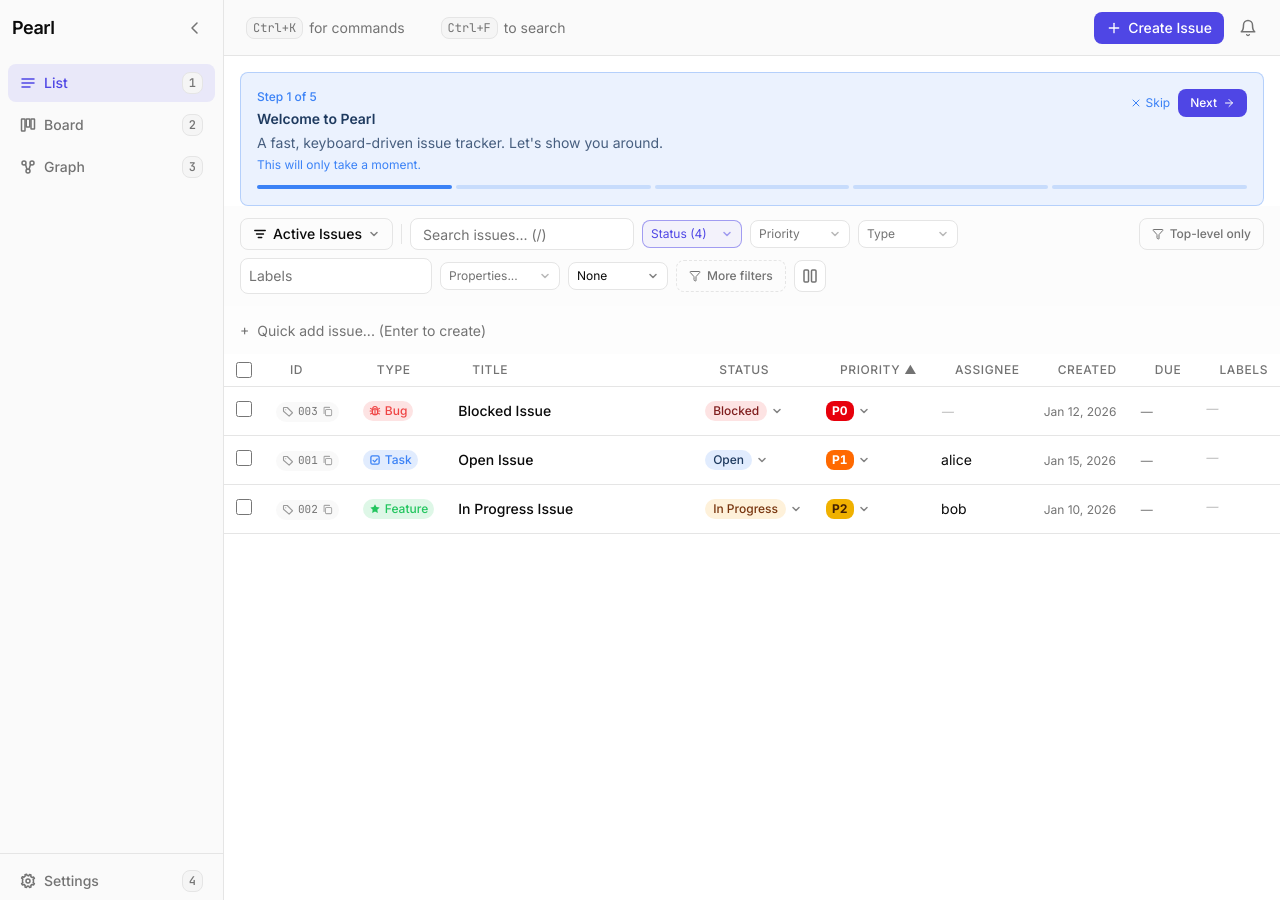
Test case: SC8+SC10: Close issue and highlight newly-unblocked › ListView renders bulk close bar when issues are selected
Note: Select a row via keyboard: press j then x
Press j
Press x
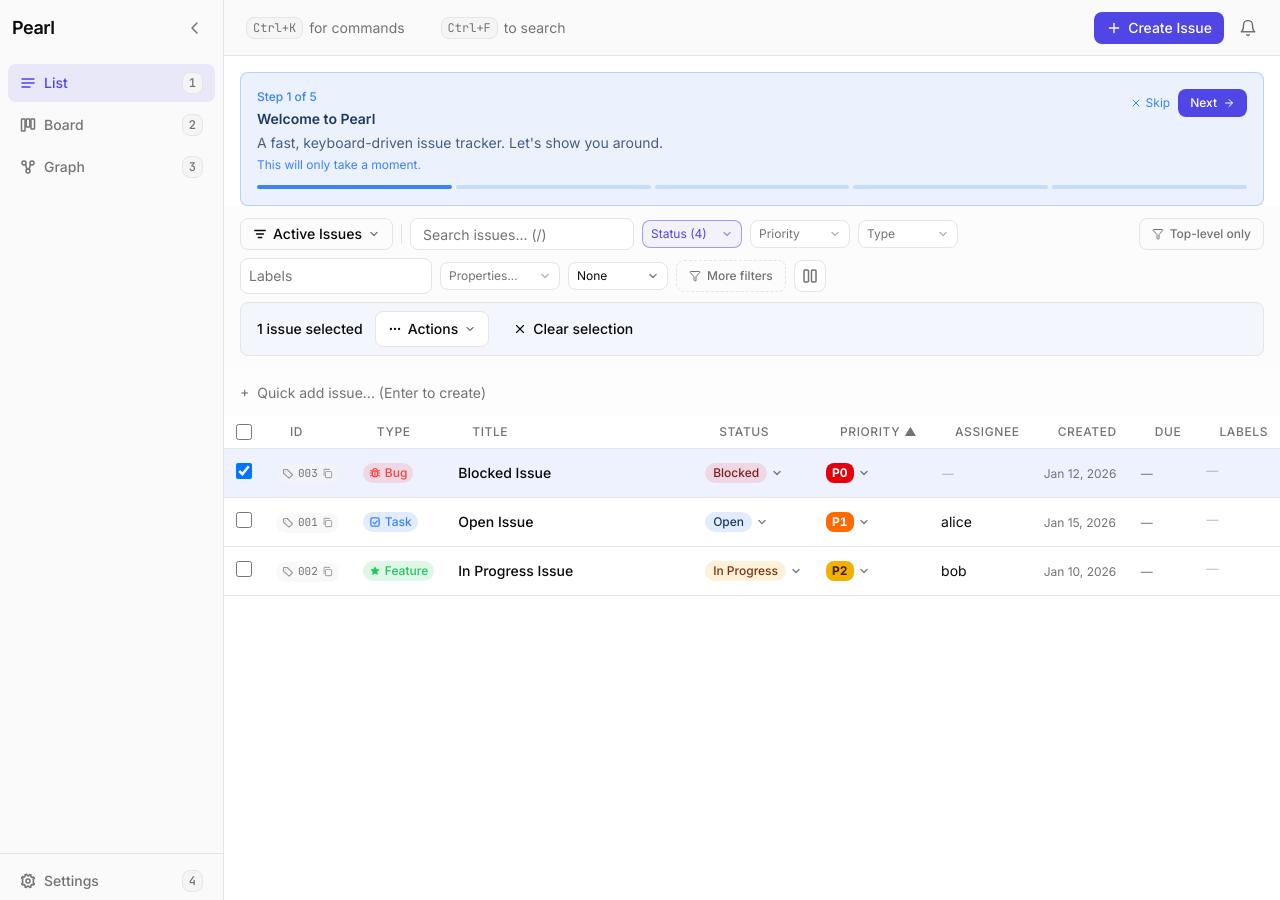
expect the text "1 issue selected" is shown: met, box [257, 319, 363, 339]
expect the button "Actions" is shown: met
Note: Open the dropdown — Close selected should be a menu item
Click the button "Actions": (432, 329) [375, 311, 489, 347]
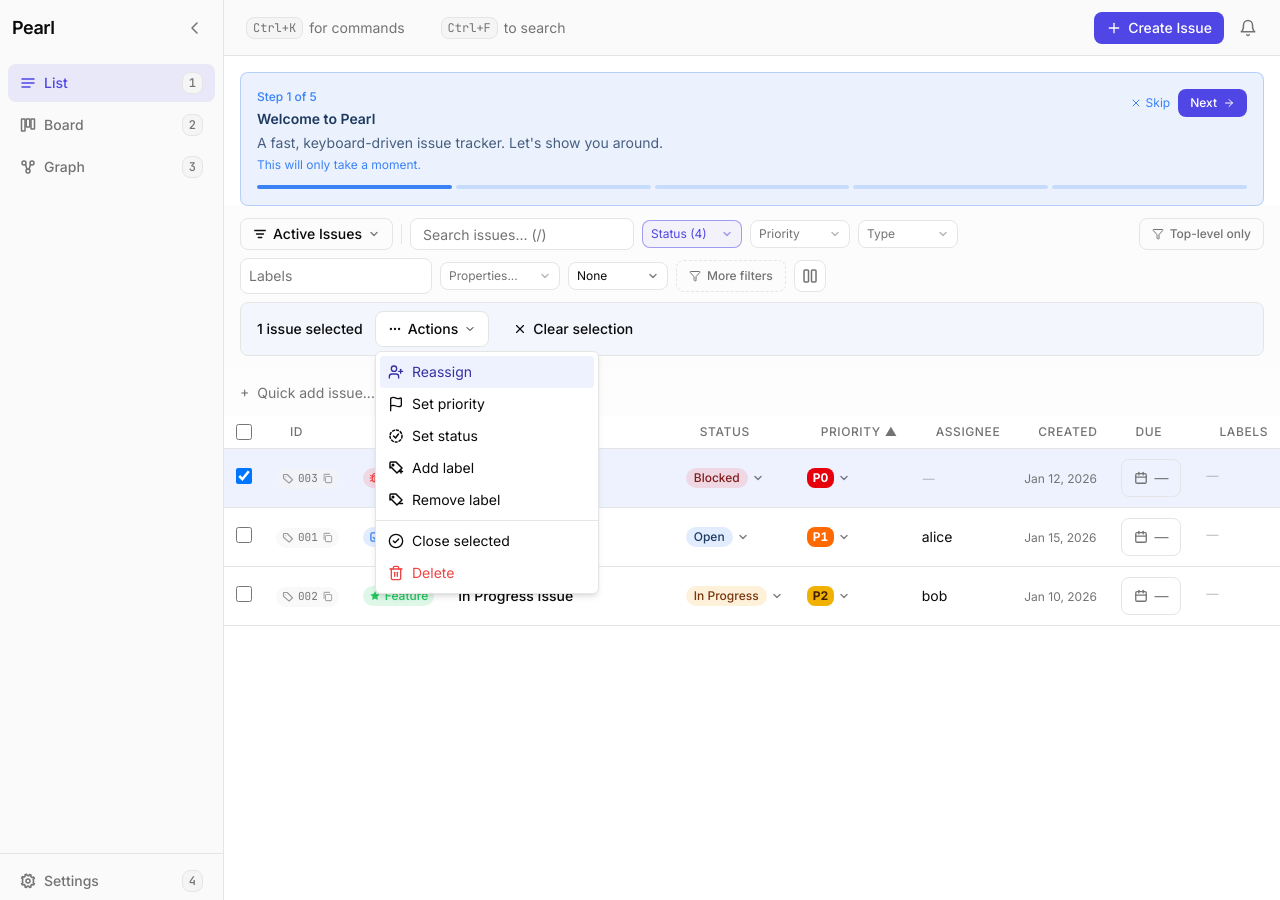
expect the menu item "Close selected" is shown: met, box [388, 532, 510, 549]
